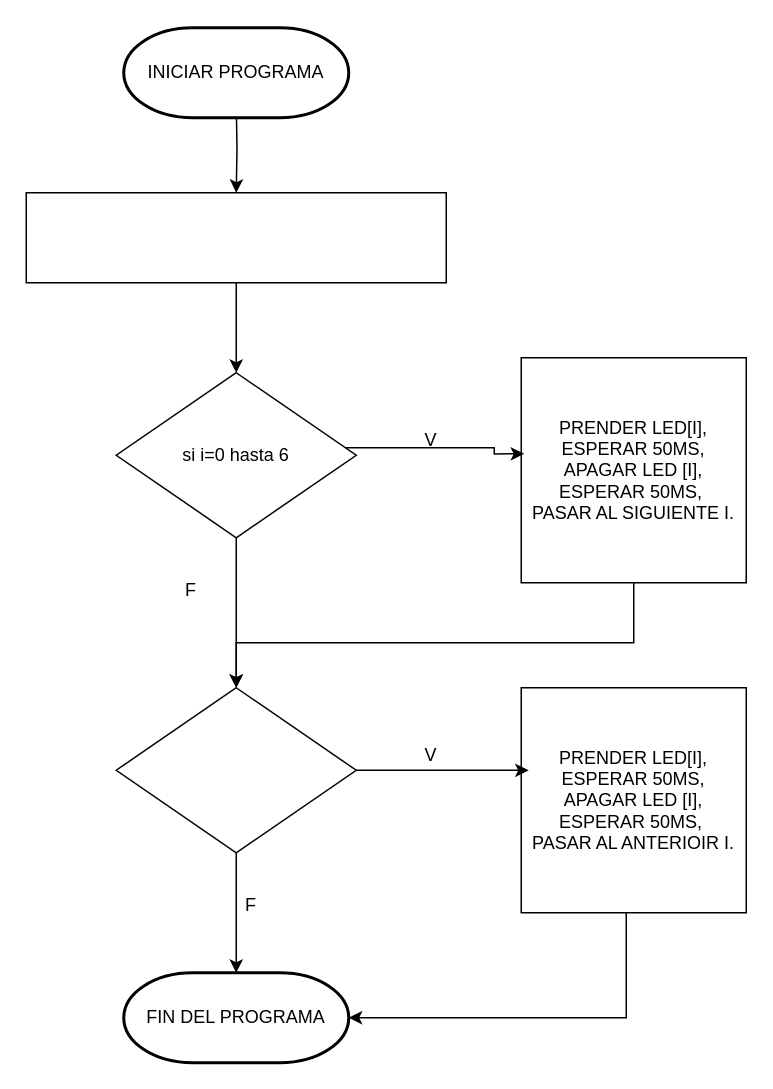
Some shapes in this 773 by 1089 pixel diagram are drawn without their labels. Each missing label, with the centre of its shape:
"CONFIGURACION (setup): inicializar 7 pines como SALIDA" goes at point (235, 237).
"si i=6 hasta 0" goes at point (235, 769).
